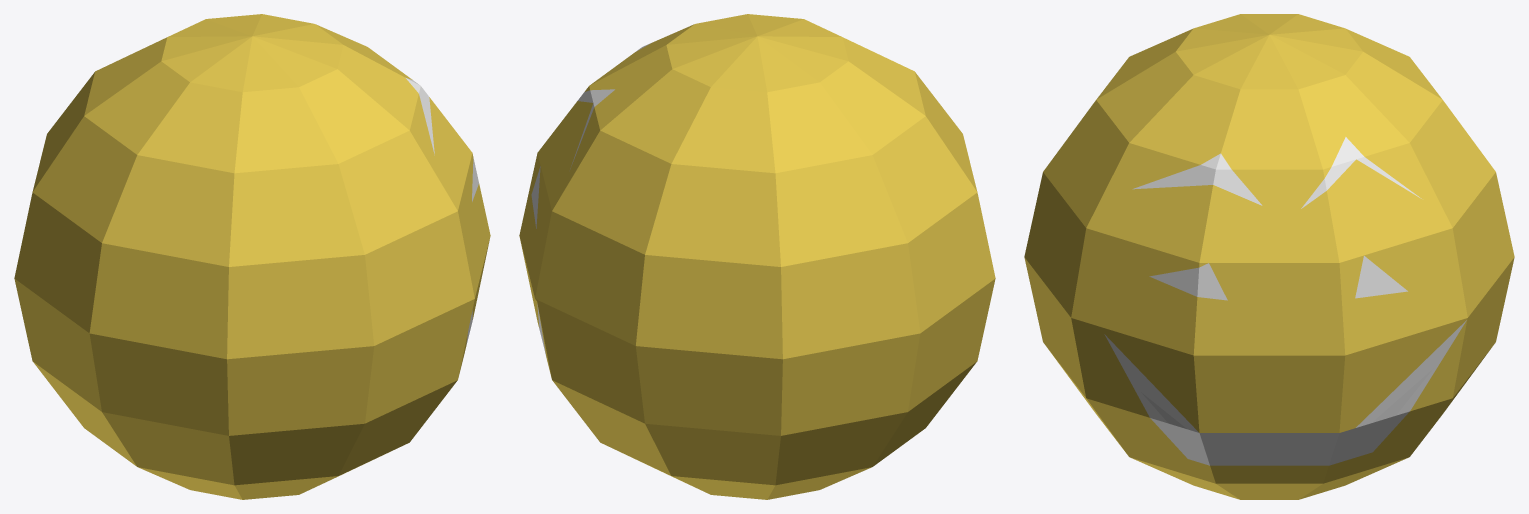
File: head.fbx
The picture shows the model from 3 angles, left to right: view 1: azimuth 30°, elevation 25°; view 2: azimuth 150°, elevation 25°; view 3: azimuth 270°, elevation 25°; orthographic projection.
Visible parts, largest first — view 1: Sphere; view 2: Sphere; view 3: Sphere.
Boxes of the visible parts, x1=… form: Sphere: x1=14, y1=14, x2=490, y2=499; Sphere: x1=519, y1=14, x2=995, y2=499; Sphere: x1=1024, y1=14, x2=1514, y2=499.
Bounding box in the file's own units: 190 × 200 × 200.
